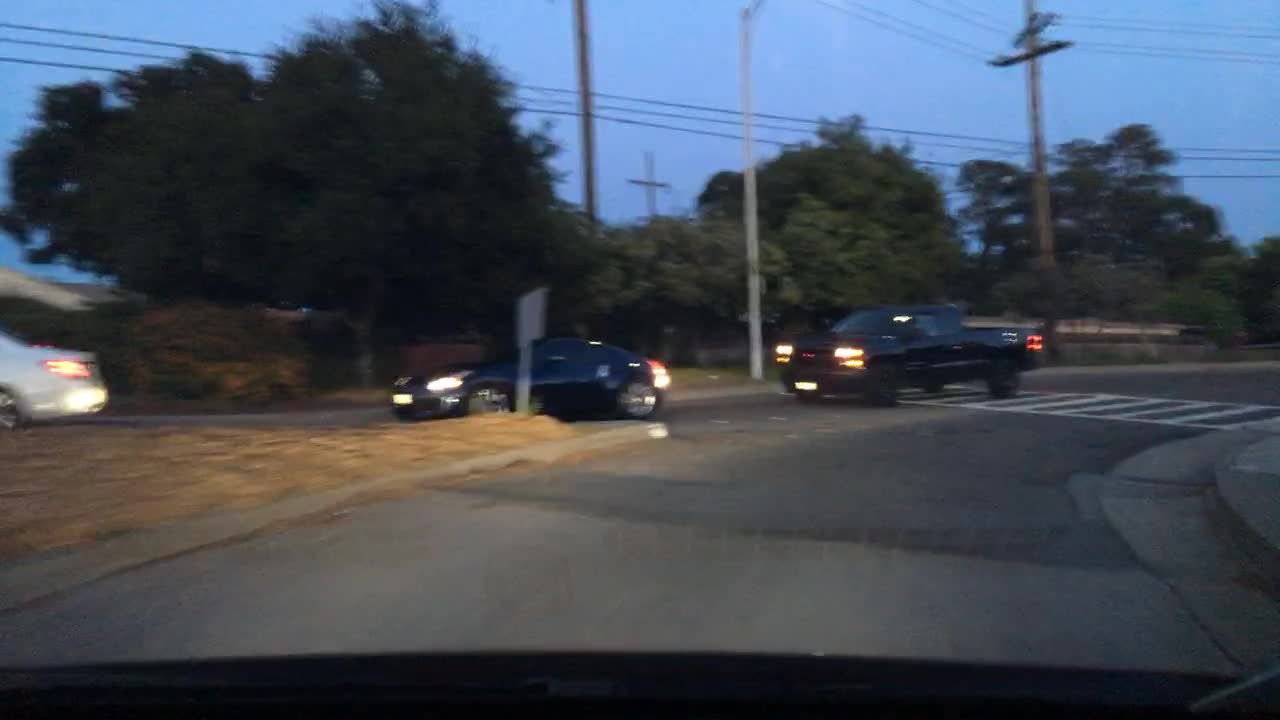car: (390, 337, 670, 419), (0, 325, 107, 428)
traffic sign: (517, 290, 542, 339)
truck: (774, 303, 1043, 405)
